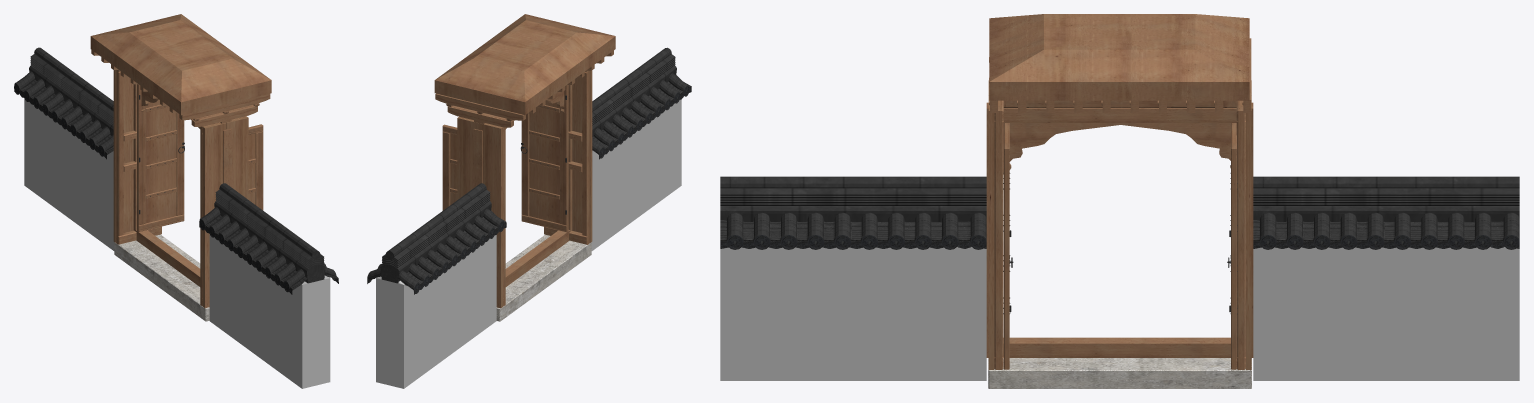
File: SM_HBJ_HG_StoneWallH_Splines_22.fbx
The picture shows the model from 3 angles, left to right: view 1: azimuth 30°, elevation 25°; view 2: azimuth 150°, elevation 25°; view 3: azimuth 270°, elevation 25°; orthographic projection. The views are drawn at different scales.
Visible parts, largest first — view 1: SM_HBJ_HG_StoneWallH_Splines_22; view 2: SM_HBJ_HG_StoneWallH_Splines_22; view 3: SM_HBJ_HG_StoneWallH_Splines_22.
Part boxes in pixels (x1,y1,x2,y2): SM_HBJ_HG_StoneWallH_Splines_22: (14,14,338,388); SM_HBJ_HG_StoneWallH_Splines_22: (367,14,691,388); SM_HBJ_HG_StoneWallH_Splines_22: (720,14,1519,388).
Bounding box in the file's own units: 126 × 667 × 315.
